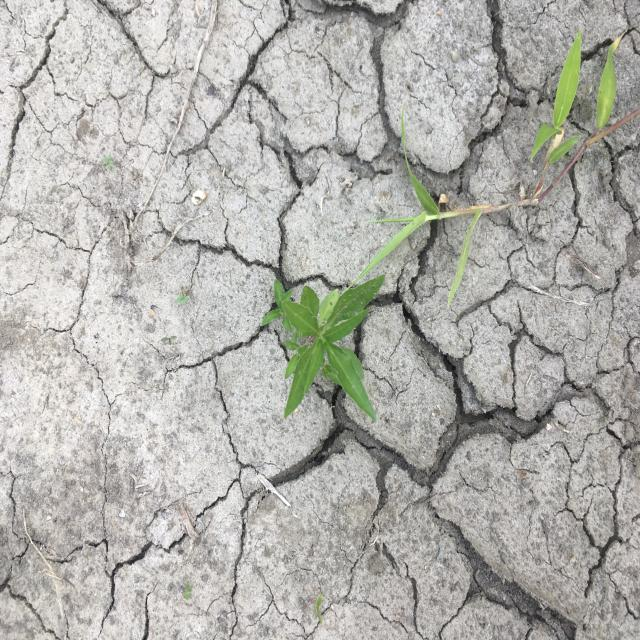Eclipta: (259, 272, 388, 424)
